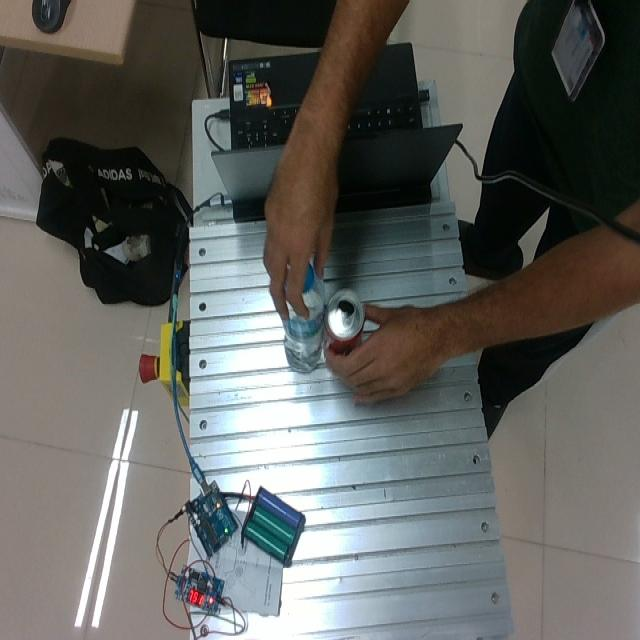coca: (324, 288, 364, 359)
lavie: (280, 257, 328, 375)
